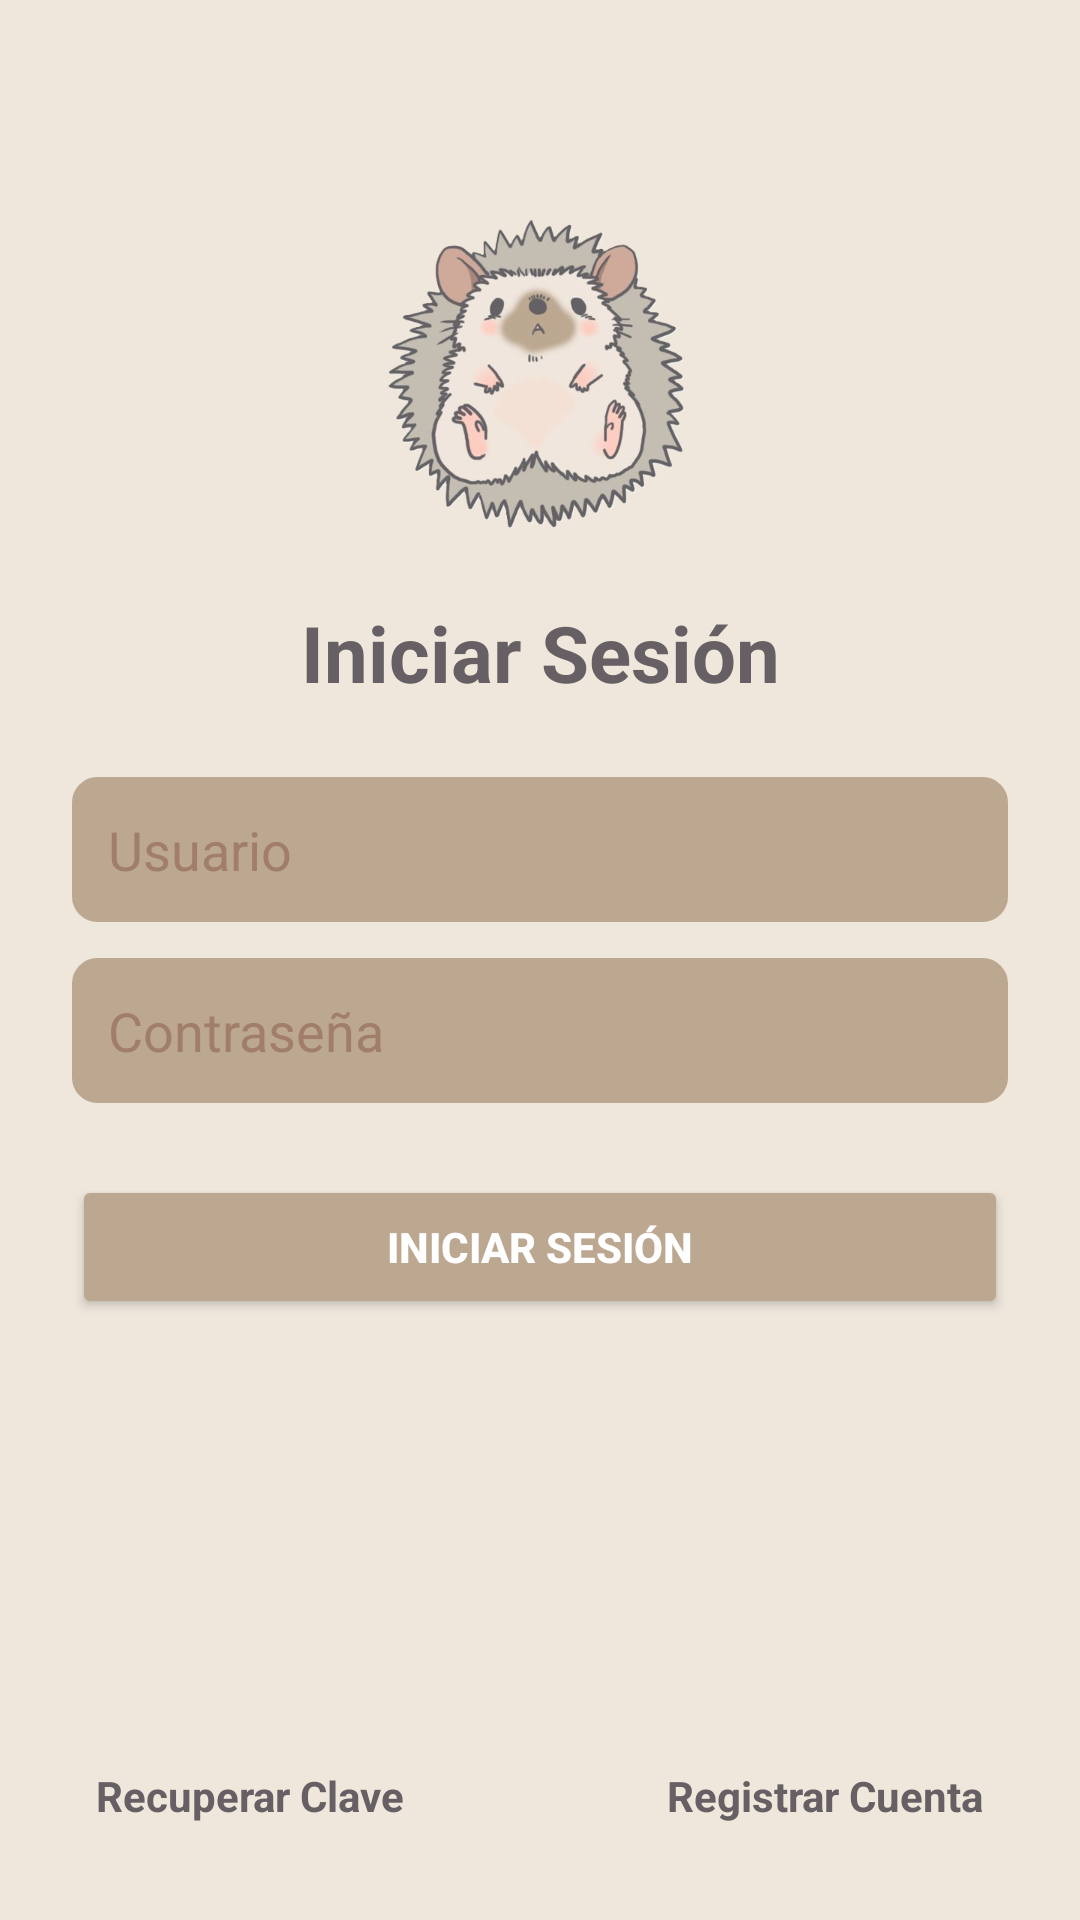

Where icons sit on this 1080 x 1920 app screen, as (x1, y1, x2, y2):
erizo: (388, 220, 684, 528)
